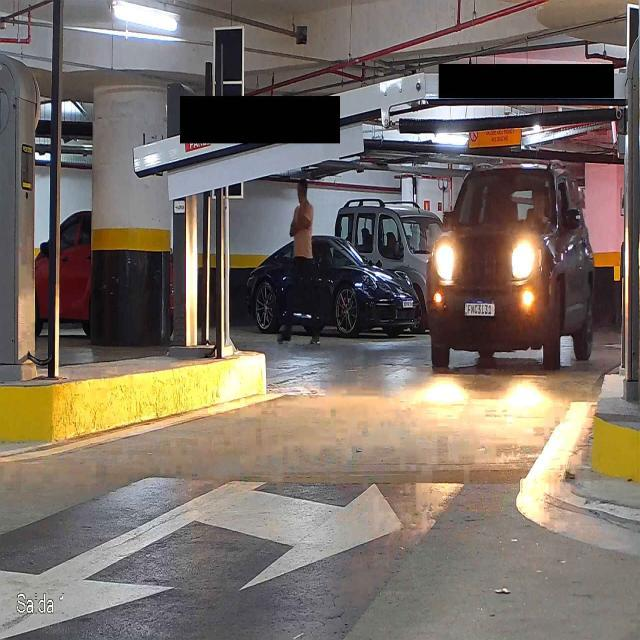mercosul_plate: (464, 298, 496, 318)
